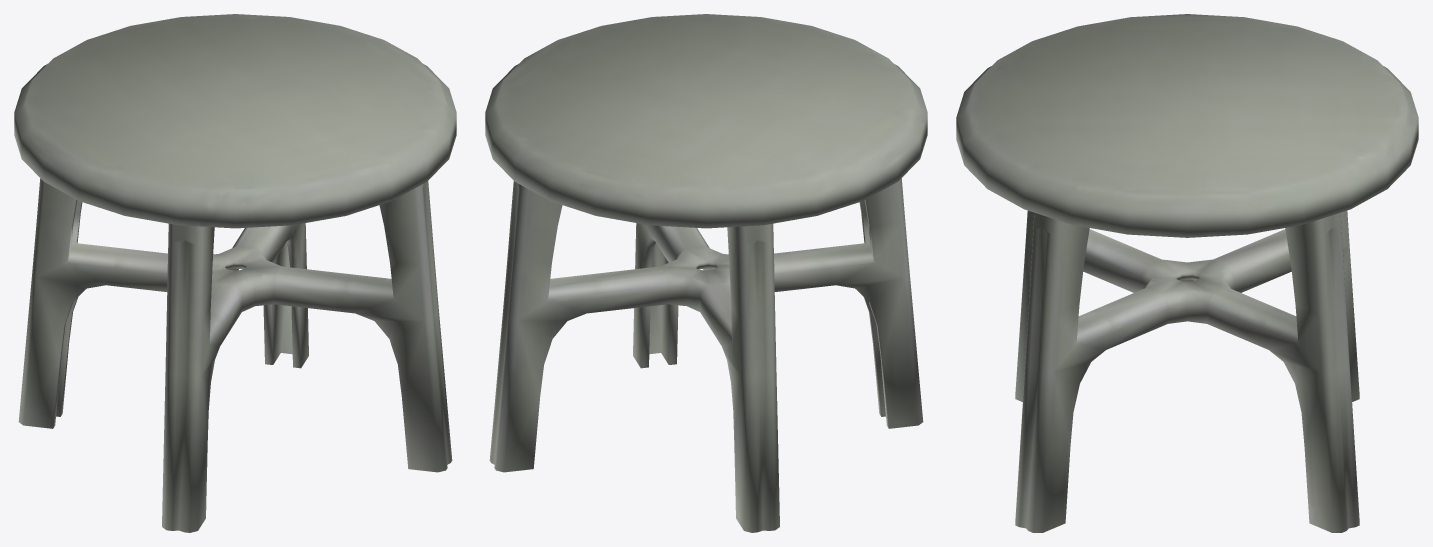
3 renders of one model, left to right at view 1: azimuth 30°, elevation 25°; view 2: azimuth 150°, elevation 25°; view 3: azimuth 270°, elevation 25°, orthographic. The views are drawn at different scales.
Size of the model in its own units: 9.95 by 8.4 by 9.95.
Materials: 1 (1 with a texture image).
